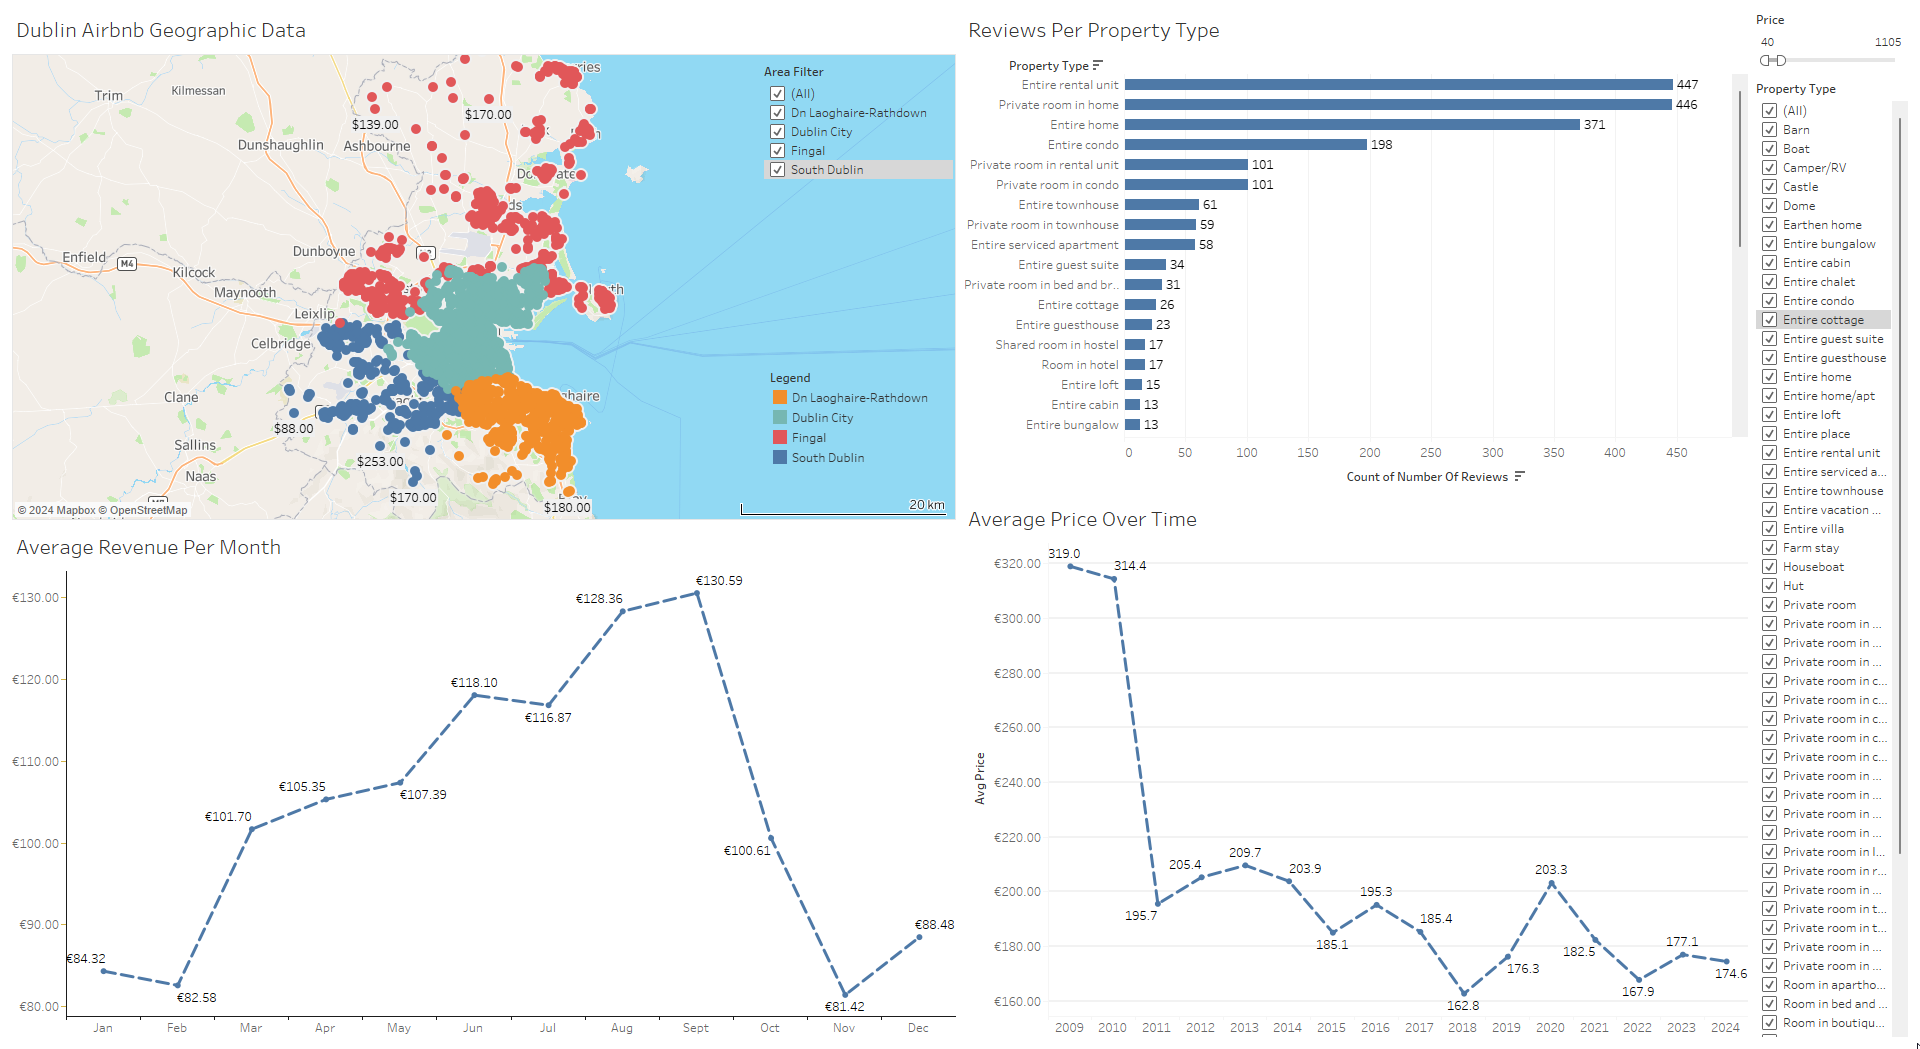

This screenshot's page, from the dashboard's own definition file:
{"tool":"tableau","page":{"name":"Dashboard 1","canvas":[1000,1000],"units":"permille","ordinal":0},"visuals":[{"type":"worksheet","title":"Sheet 6","mark":"Automatic","rows":["latitude"],"cols":["longitude"],"box":[4.7,8.9,495.3,491.1]},{"type":"worksheet","title":"Sheet 5","mark":"Bar","rows":["property_type"],"cols":["number_of_reviews"],"box":[500,8.9,401.7,464.4]},{"type":"filter","title":"Sheet 5","param":"[federated.1m44nln0gmv67j1d4ofbe1dqy1gd].[none:Calculation_1751900323719499778:q","box":[901.7,8.9,93.6,77]},{"type":"filter","title":"Sheet 6","param":"[federated.1m44nln0gmv67j1d4ofbe1dqy1gd].[none:neighbourhood_cleansed:nk]","box":[397.9,61.4,98.3,141.7]},{"type":"filter","title":"Sheet 5","param":"[federated.1m44nln0gmv67j1d4ofbe1dqy1gd].[none:property_type:nk]","box":[901.7,85.9,93.6,905.1]},{"type":"legend","title":"Sheet 6","param":"[federated.1m44nln0gmv67j1d4ofbe1dqy1gd].[none:neighbourhood_cleansed:nk]","box":[400.8,352.7,95.4,109.4]},{"type":"worksheet","title":"Sheet 7","mark":"Automatic","rows":["Calculation_1751900323719499778"],"cols":["host_since"],"box":[500,473.3,401.7,517.8]},{"type":"worksheet","title":"Sheet 8","mark":"Line","rows":["Calculation_1936829316577169408"],"cols":["date"],"box":[4.7,500,495.3,491.1]}]}

Visuals, with their boxes on the dashboard's canvas, which has no fixed pixel size, in thousandths of its width and height (x1, y1, x2, y2). These are canvas units, not pixel positions in the 1920x1049 screenshot, which may show the page scaled, cropped or inside an application window:
"Sheet 6" worksheet: 5:9:500:500
"Sheet 5" worksheet (Bar marks): 500:9:902:473
"Sheet 5" filter: 902:9:995:86
"Sheet 6" filter: 398:61:496:203
"Sheet 5" filter: 902:86:995:991
"Sheet 6" legend: 401:353:496:462
"Sheet 7" worksheet: 500:473:902:991
"Sheet 8" worksheet (Line marks): 5:500:500:991
